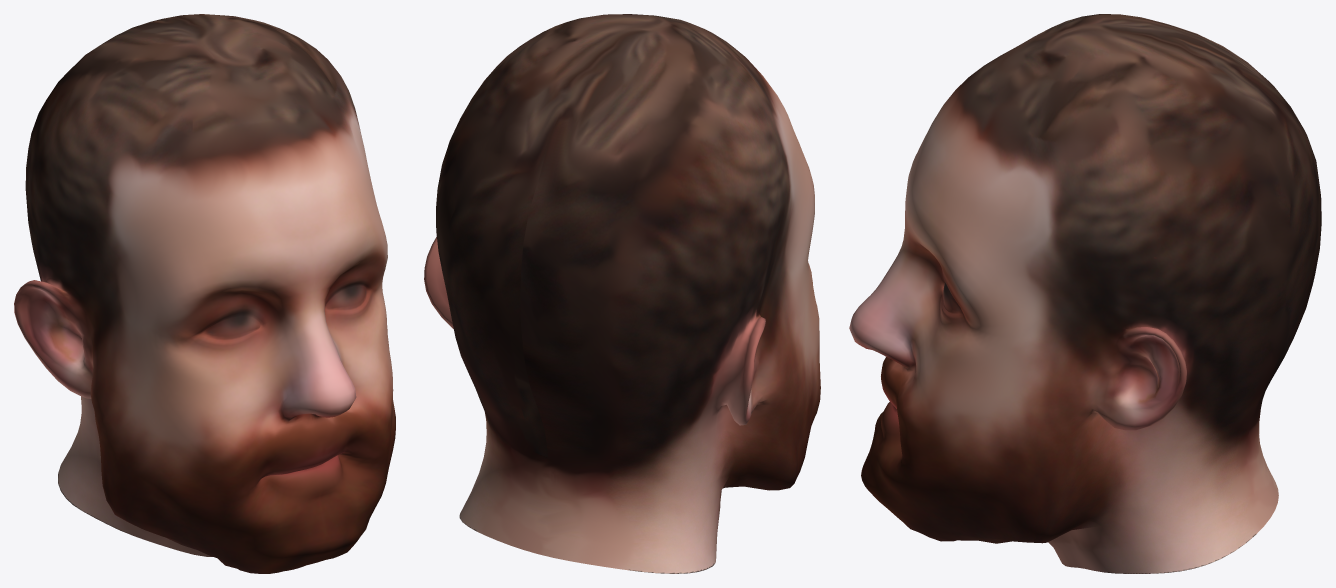
The model's file is myhead.glb.
3 views of the same model, side by side, from view 1: azimuth 30°, elevation 25°; view 2: azimuth 150°, elevation 25°; view 3: azimuth 270°, elevation 25° (orthographic). The views are drawn at different scales.
Parts seen in each view (by area): view 1: FaceBuilderHead; view 2: FaceBuilderHead; view 3: FaceBuilderHead.
Part boxes in pixels (x1=…): FaceBuilderHead: x1=14, y1=14, x2=395, y2=573; FaceBuilderHead: x1=424, y1=14, x2=820, y2=573; FaceBuilderHead: x1=849, y1=14, x2=1321, y2=573.
Bounding box in the file's own units: 1.31 × 1.98 × 1.62.
Materials: 1 (1 with a texture image).
